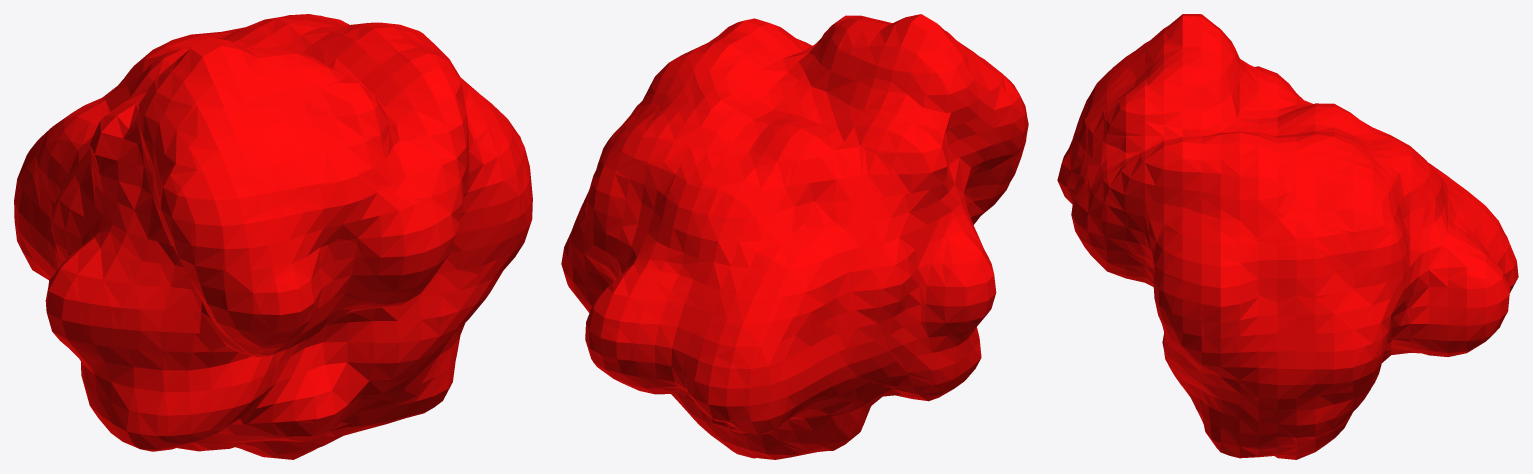
Rendered from uxuA_coarse.dae.
3 renders of one model, left to right at view 1: azimuth 30°, elevation 25°; view 2: azimuth 150°, elevation 25°; view 3: azimuth 270°, elevation 25°, orthographic. The views are drawn at different scales.
Parts seen in each view (by area): view 1: uxuA; view 2: uxuA; view 3: uxuA.
Boxes of the visible parts, bbox=[...] form: uxuA: bbox=[14, 14, 532, 459]; uxuA: bbox=[561, 14, 1028, 459]; uxuA: bbox=[1057, 14, 1518, 459].
Size of the model in its own units: 58.13 by 60.21 by 64.49.
